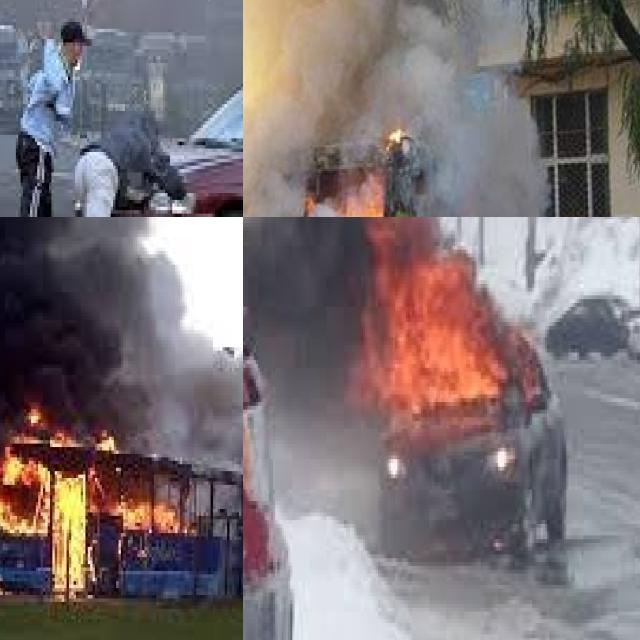fire: (344, 217, 558, 459), (0, 395, 107, 608), (243, 131, 420, 217), (116, 440, 201, 554)
smoke: (243, 0, 543, 217), (0, 217, 243, 471), (243, 217, 378, 345)
